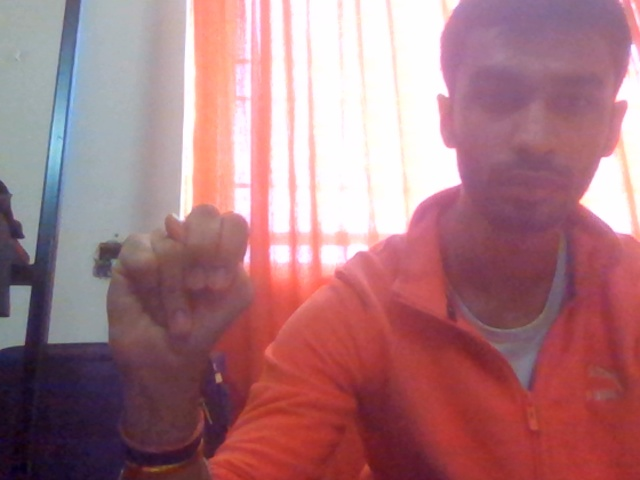N: (109, 142, 307, 451)
